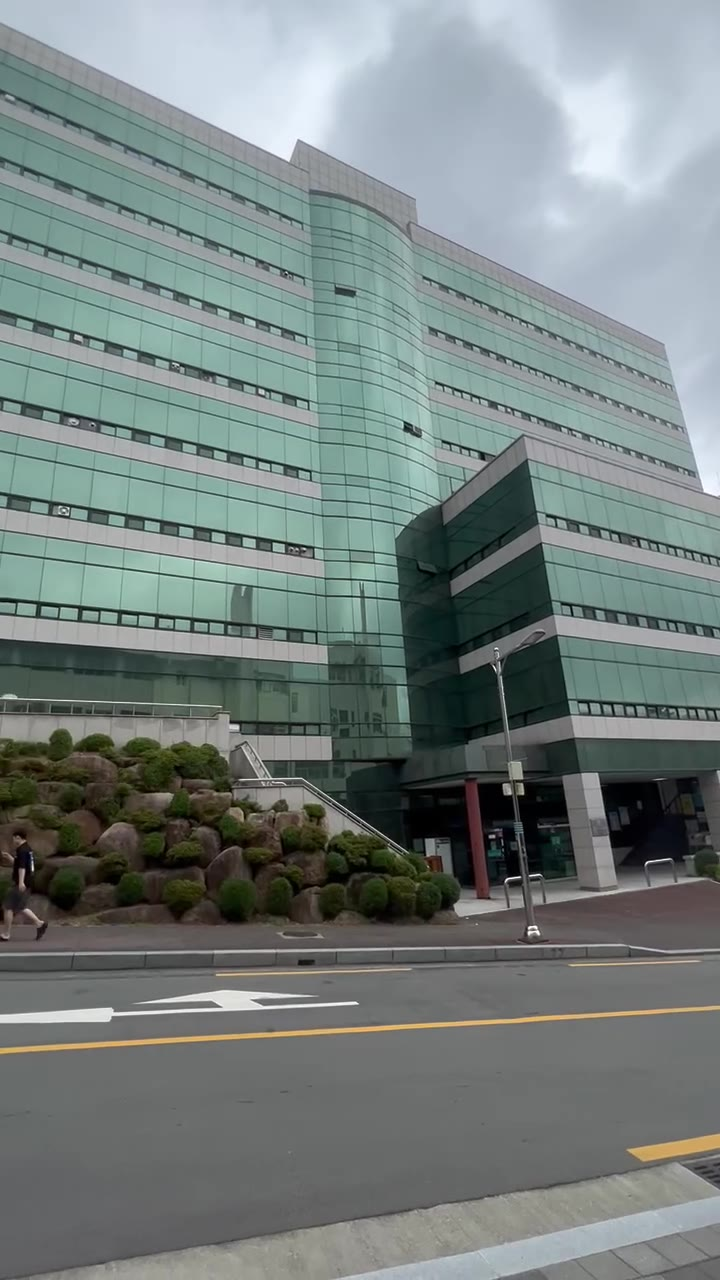medium: (0, 74, 692, 752)
